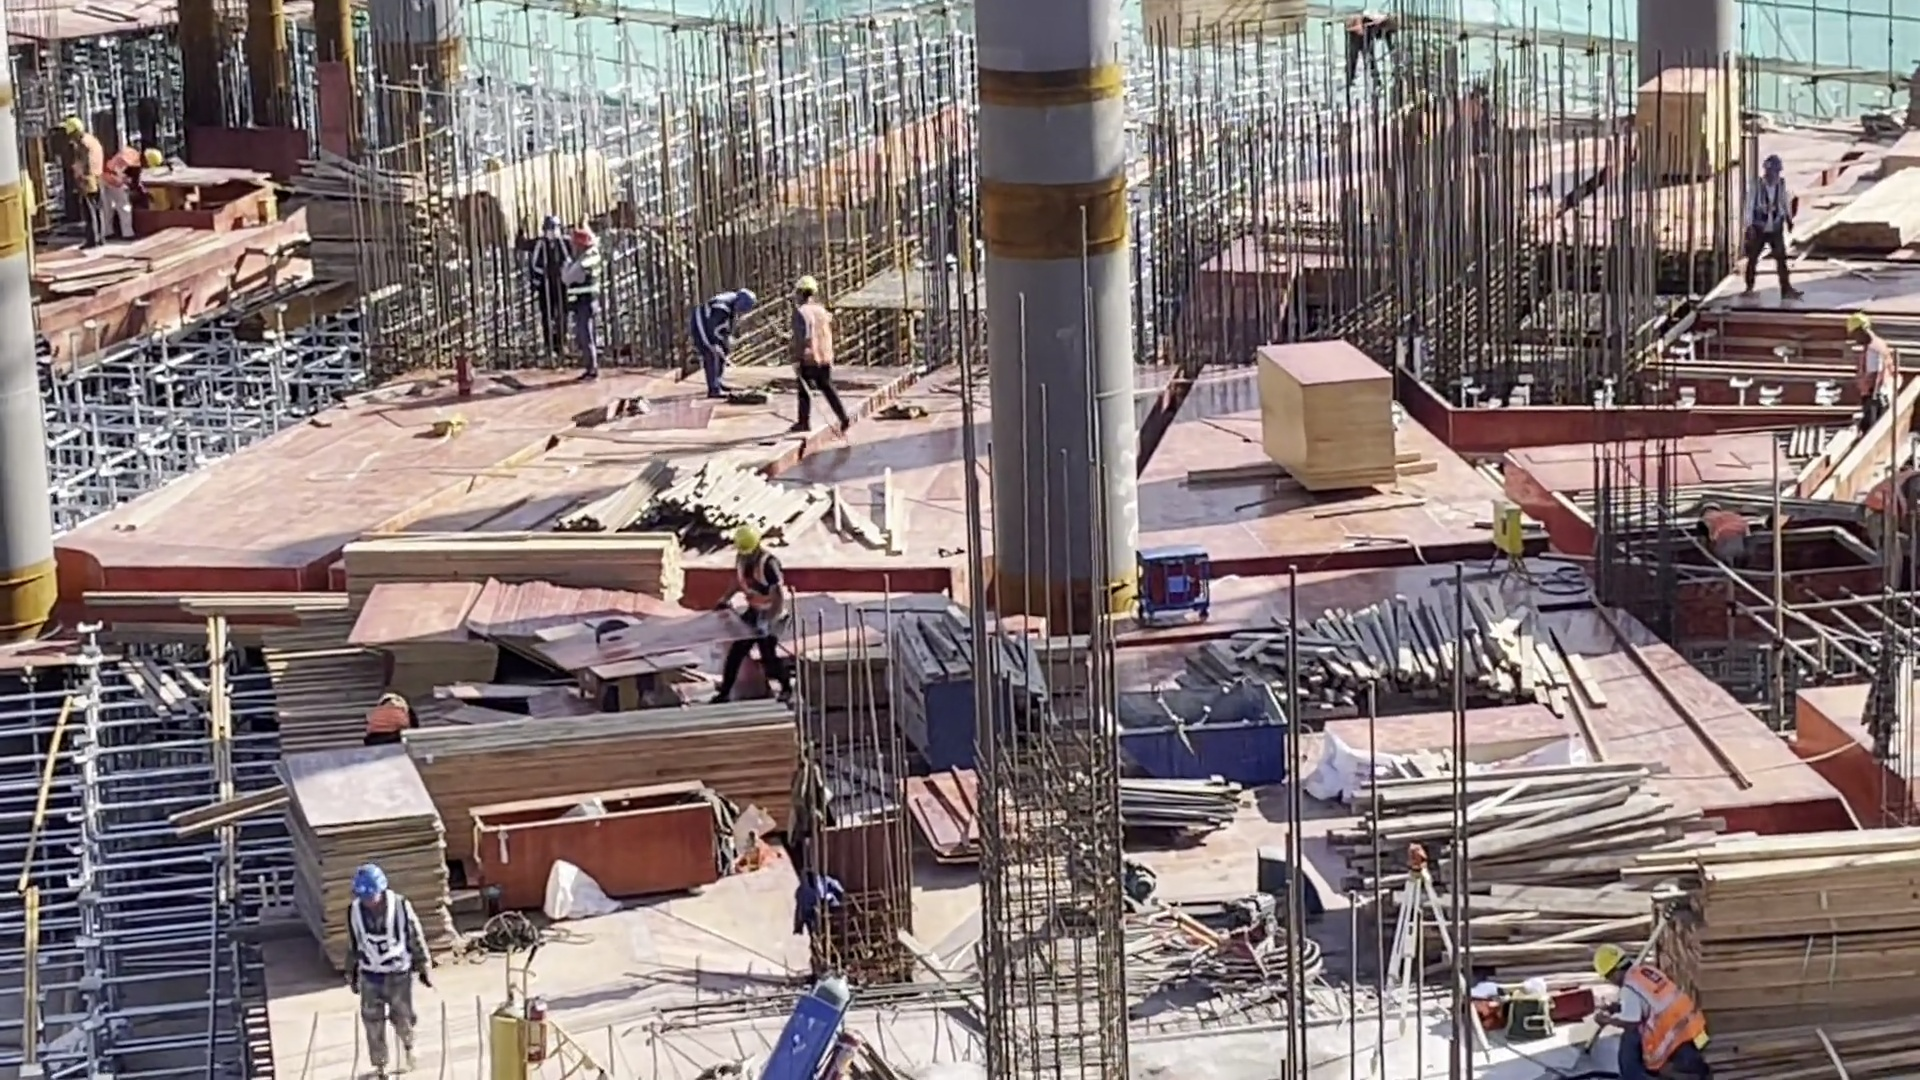board: (286, 733, 438, 958), (1256, 339, 1394, 486), (343, 578, 481, 681), (1634, 66, 1741, 183), (901, 761, 991, 870)
cutter: (533, 607, 694, 708), (135, 164, 283, 239)
ebox: (1486, 500, 1526, 581)
helmet: (1590, 946, 1630, 981), (351, 864, 388, 899), (731, 526, 761, 554), (794, 274, 819, 297), (1843, 312, 1869, 335), (733, 288, 755, 308), (570, 229, 594, 249), (142, 148, 163, 168), (61, 116, 83, 134), (541, 216, 562, 234), (1762, 154, 1783, 170)
hopper: (1107, 676, 1285, 777)
person: (1583, 939, 1716, 1080), (345, 859, 422, 1080), (717, 529, 794, 706), (689, 287, 764, 397), (100, 142, 169, 256), (787, 274, 835, 437), (1743, 153, 1795, 297), (514, 216, 564, 351), (1842, 314, 1894, 441), (560, 224, 602, 377), (55, 111, 99, 257), (1851, 465, 1920, 538), (1341, 4, 1394, 85), (358, 687, 423, 748), (1694, 495, 1752, 563)
vest: (1622, 969, 1709, 1069), (345, 899, 413, 975), (735, 548, 790, 618), (687, 290, 736, 354), (792, 301, 835, 367), (563, 250, 604, 313), (1854, 340, 1895, 402), (529, 238, 569, 289), (1863, 468, 1910, 511), (103, 146, 138, 201), (71, 137, 102, 192), (1752, 178, 1784, 229), (363, 705, 406, 742), (1702, 513, 1749, 542)
wood: (1339, 759, 1702, 970), (1671, 850, 1920, 1080), (1184, 586, 1605, 719), (407, 705, 810, 801), (338, 526, 691, 603), (563, 478, 826, 567), (299, 144, 443, 281), (452, 143, 615, 236), (1789, 165, 1920, 259), (1138, 1, 1311, 47)
